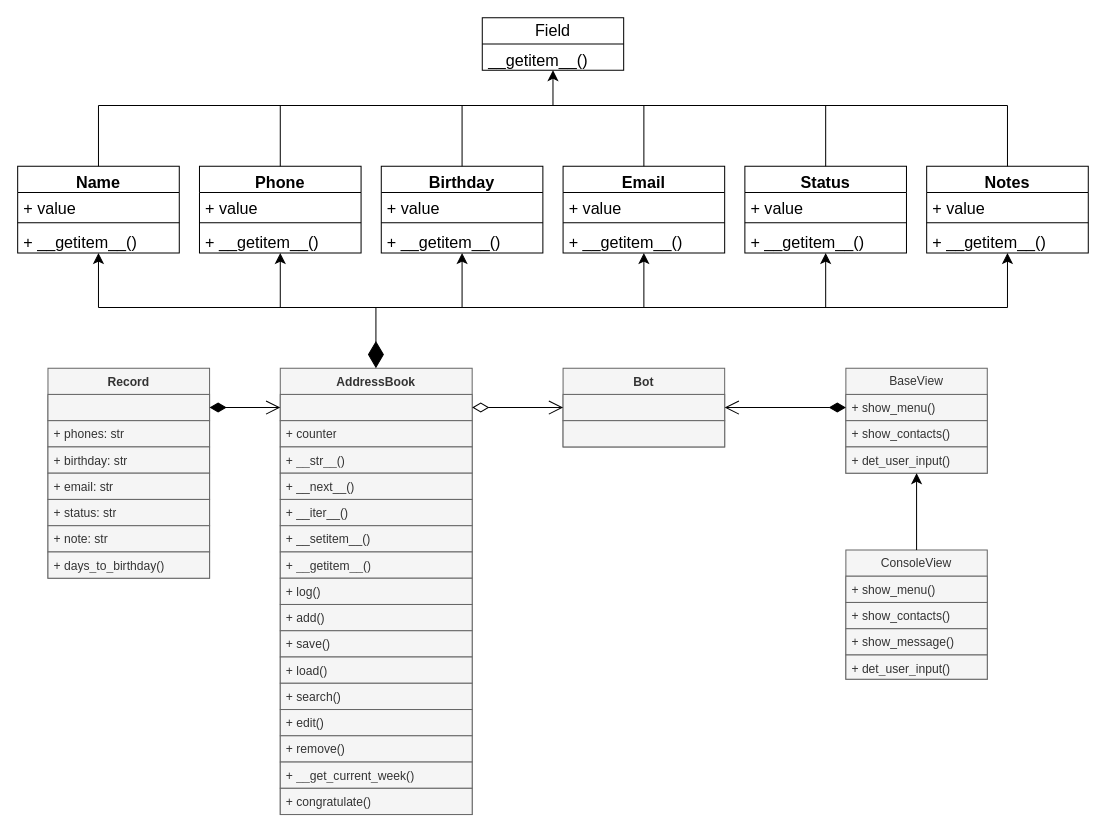
Image size: 1106x835. Some labels were removed from this diagram. The centre of each missing label's shape, as x and y in pixels:
"+ data : list" belongs at pixel 375 407.
"+ handle()" belongs at pixel 643 433.
"+ name: str" belongs at pixel 128 407.
"+ view" belongs at pixel 643 407.
